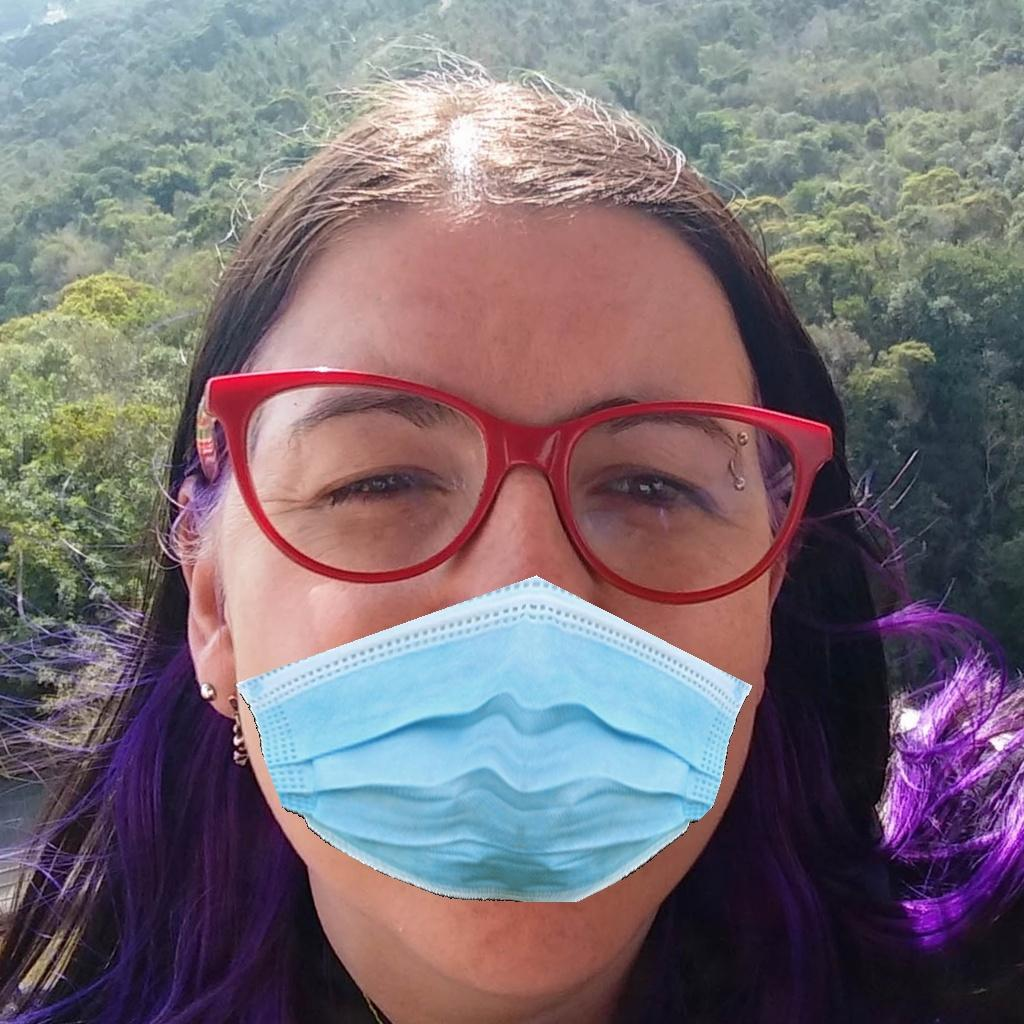Com Máscara: (224, 296, 790, 947)
